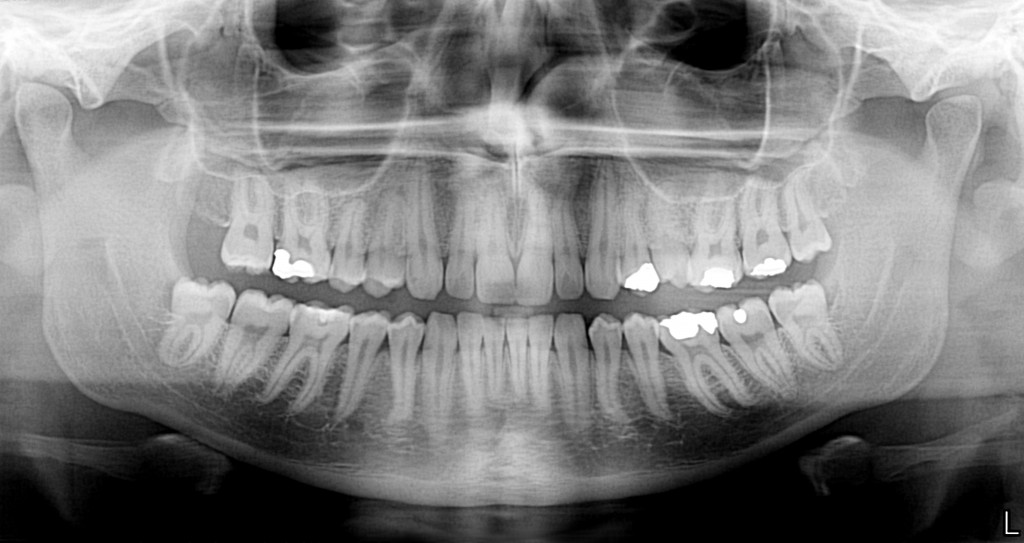canine: (403, 175, 450, 306), (548, 308, 597, 420), (580, 197, 623, 304), (429, 307, 463, 422)
incisor: (508, 198, 559, 312), (474, 212, 521, 312), (441, 191, 476, 301), (549, 212, 584, 308), (526, 310, 558, 404), (480, 299, 508, 399), (457, 306, 487, 399), (503, 307, 530, 405)
molar: (652, 289, 754, 433), (265, 290, 357, 412), (712, 293, 808, 403), (209, 282, 295, 403), (765, 271, 859, 375), (154, 272, 239, 374), (272, 165, 335, 292), (689, 176, 748, 295), (217, 164, 278, 276), (776, 165, 839, 270), (740, 186, 797, 284)
premolar: (328, 297, 396, 427), (621, 308, 678, 431), (585, 298, 631, 426), (613, 183, 662, 300), (385, 304, 428, 435), (363, 185, 408, 300), (327, 186, 374, 291), (647, 199, 695, 293)
